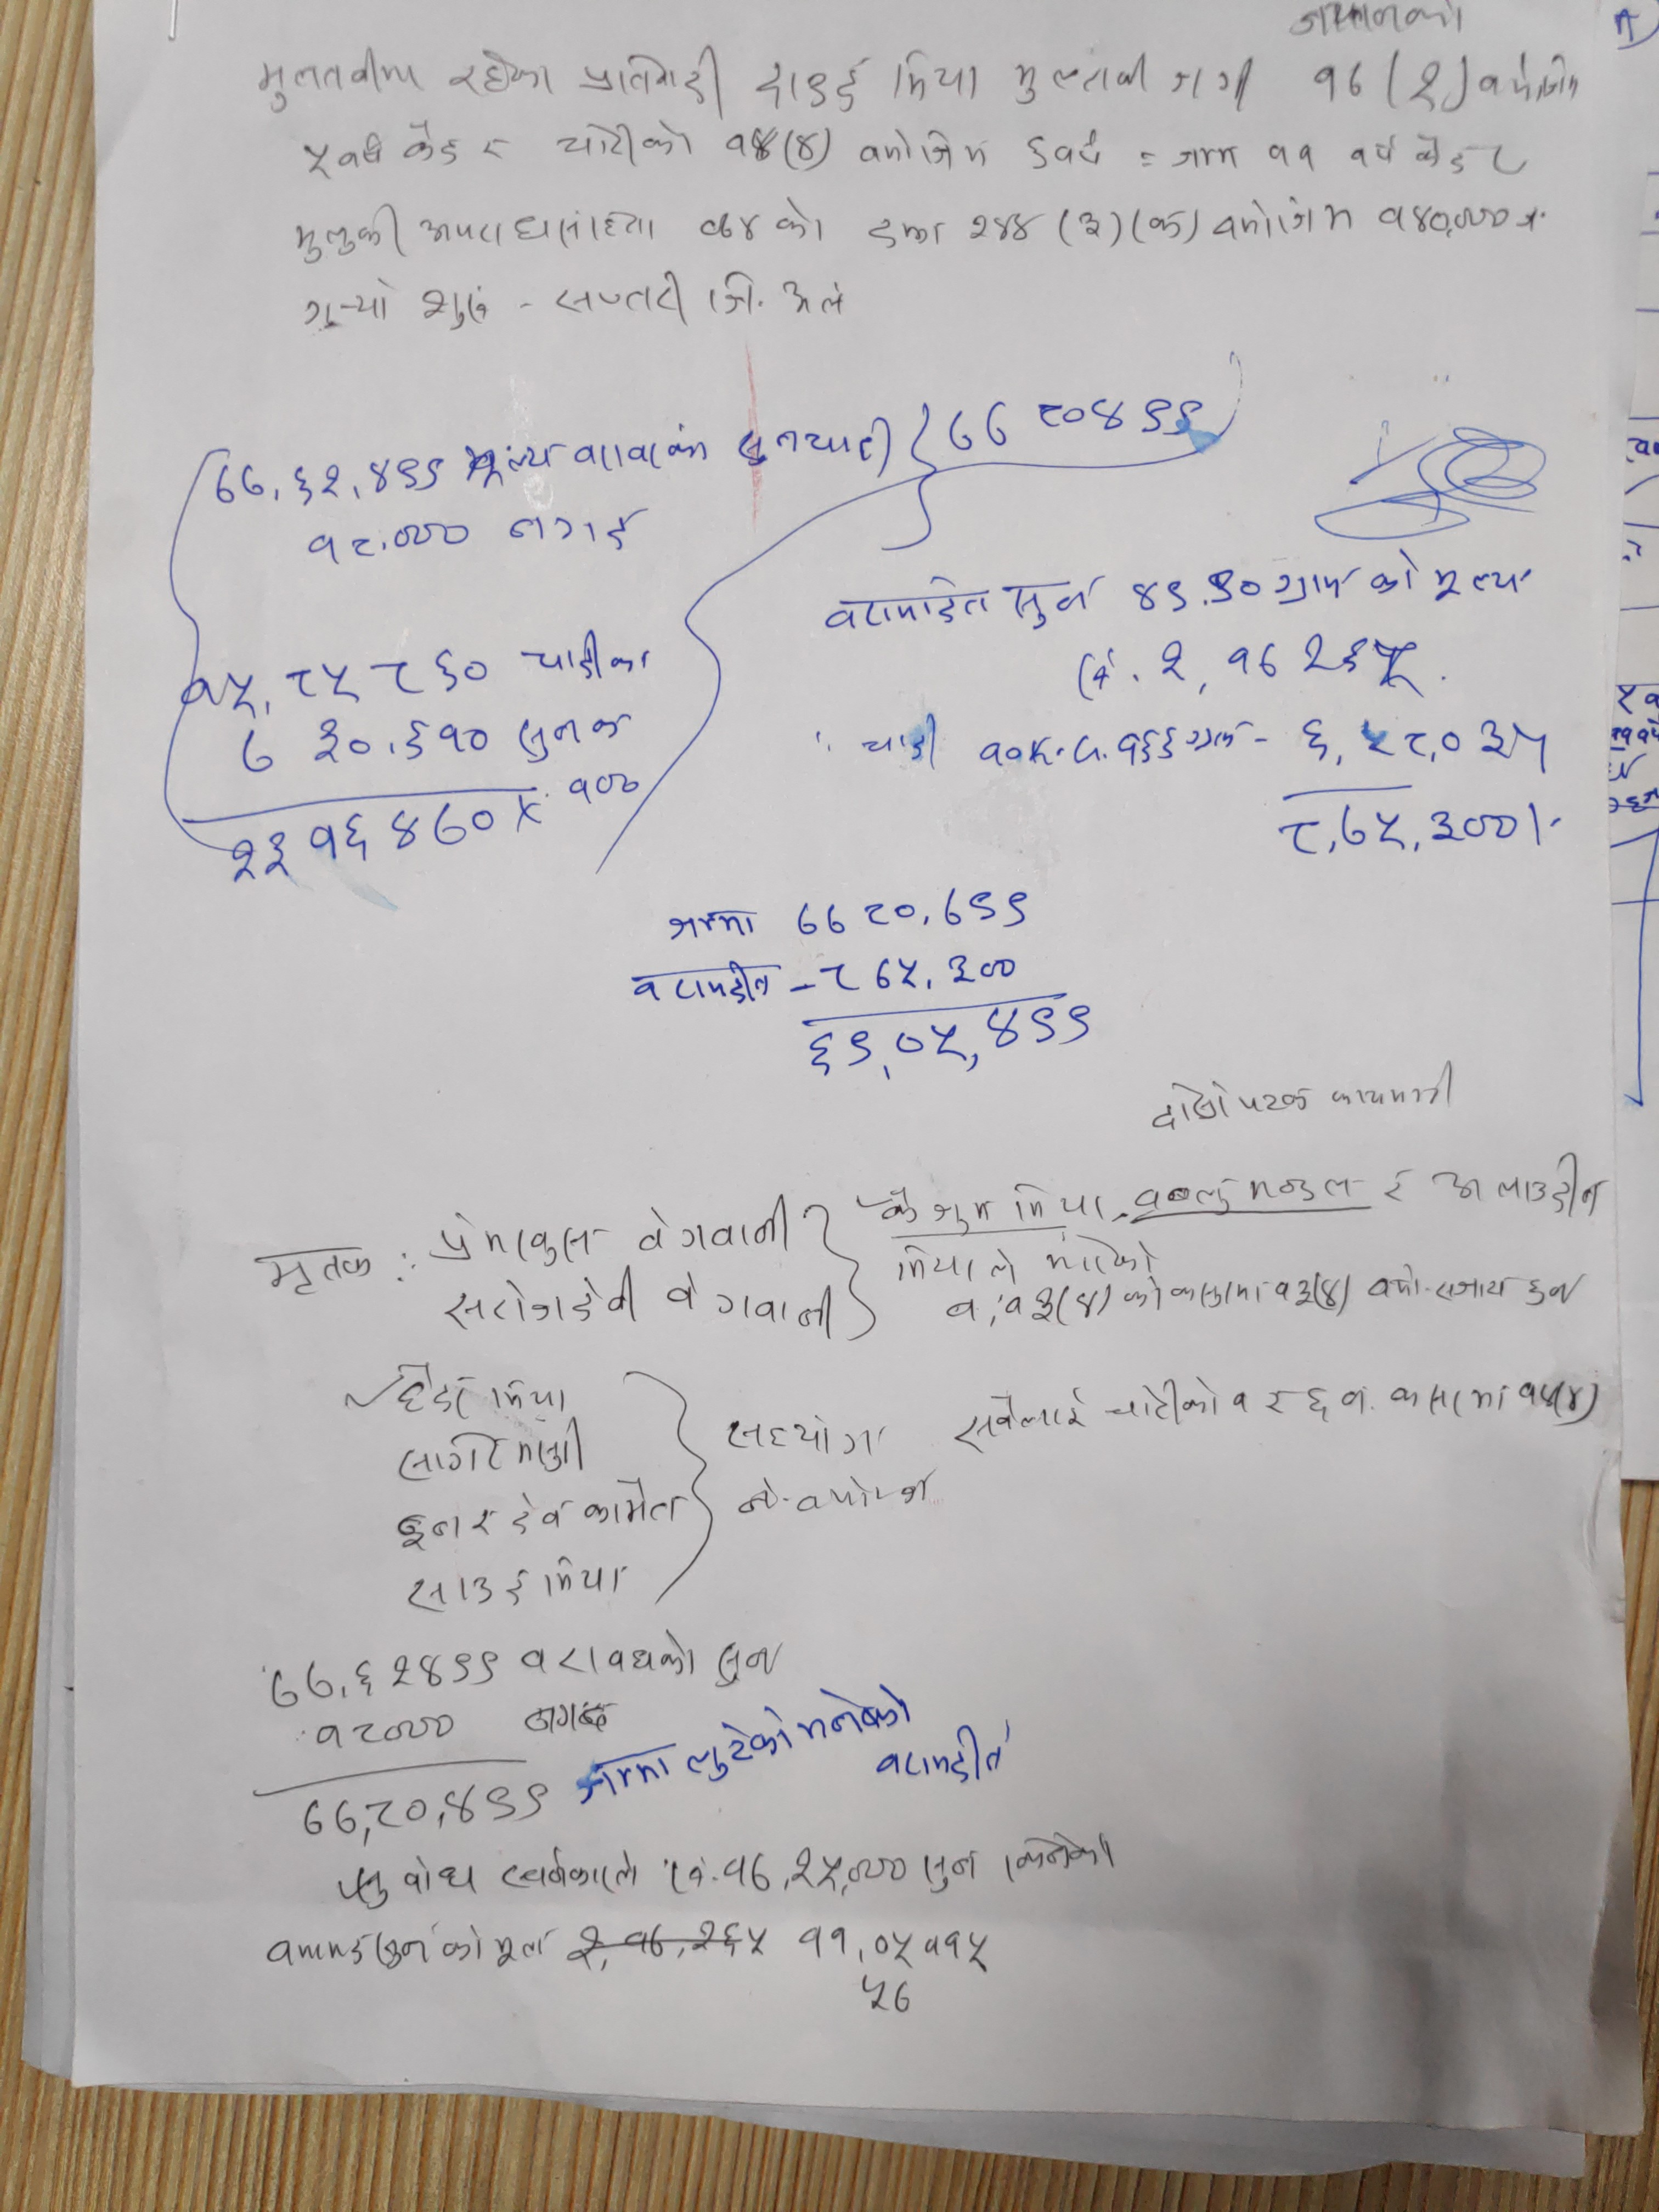text: (228, 803, 498, 885), (805, 1000, 1100, 1075), (178, 648, 493, 711), (1291, 711, 1561, 775), (235, 711, 490, 779), (941, 392, 1199, 451), (1279, 799, 1523, 859), (263, 1649, 505, 1709), (298, 1780, 545, 1836), (788, 883, 1026, 939), (1429, 1148, 1612, 1219), (662, 1264, 836, 1339), (401, 1559, 636, 1613), (579, 42, 734, 122), (251, 44, 422, 113), (437, 1270, 638, 1329), (207, 458, 448, 507), (795, 1921, 1004, 1977), (415, 206, 662, 253), (512, 1622, 704, 1679), (634, 1193, 800, 1258), (824, 573, 993, 636), (432, 1209, 601, 1270), (953, 1385, 1093, 1456), (401, 1428, 587, 1480), (735, 1468, 934, 1517), (735, 416, 894, 477), (720, 1846, 910, 1897), (873, 1724, 1011, 1791), (817, 949, 1023, 993), (1211, 188, 1359, 247), (685, 1712, 795, 1785), (1009, 51, 1152, 105), (310, 1709, 467, 1757), (718, 1413, 885, 1458), (626, 960, 775, 1010), (1117, 711, 1244, 770), (704, 266, 847, 319), (288, 202, 410, 263), (551, 272, 687, 326), (870, 1179, 995, 1237), (303, 521, 469, 564), (697, 193, 830, 247), (498, 1846, 645, 1895), (549, 117, 701, 164), (756, 52, 868, 115), (516, 631, 653, 681), (795, 1684, 915, 1742), (1328, 1057, 1457, 1109), (507, 503, 641, 552), (1127, 566, 1262, 615), (390, 1494, 495, 1555), (514, 709, 627, 765), (856, 127, 990, 174), (253, 1244, 369, 1298), (1000, 1834, 1121, 1886), (1373, 193, 1514, 237), (889, 1242, 1019, 1289), (1004, 573, 1108, 631), (577, 1747, 673, 1810), (573, 434, 709, 477), (889, 45, 985, 106), (1425, 556, 1534, 610), (1105, 1379, 1223, 1428), (450, 47, 558, 99), (1164, 54, 1256, 115), (976, 730, 1105, 773), (295, 129, 392, 186), (1473, 49, 1579, 101), (1392, 1376, 1504, 1425), (582, 1477, 681, 1531), (1412, 131, 1520, 179), (298, 280, 401, 331), (1044, 1233, 1162, 1277), (460, 435, 558, 488), (390, 1362, 476, 1420), (1148, 1080, 1234, 1137), (1006, 1177, 1108, 1223), (1021, 125, 1107, 178), (863, 209, 948, 256), (666, 906, 760, 948), (1269, 561, 1356, 604), (483, 1374, 573, 1416), (399, 1853, 483, 1897), (418, 282, 490, 331), (709, 1641, 775, 1689), (509, 1491, 577, 1538), (917, 1848, 981, 1897), (964, 209, 1039, 251), (1368, 545, 1424, 601), (559, 770, 643, 806), (403, 120, 460, 172), (1434, 1270, 1511, 1305), (1236, 1082, 1314, 1115), (1310, 57, 1370, 101), (720, 125, 775, 171), (1523, 1271, 1586, 1308), (1368, 1264, 1427, 1301), (1265, 134, 1321, 171), (1169, 141, 1237, 171), (1412, 59, 1446, 115), (1143, 207, 1188, 242), (1345, 134, 1391, 169), (1068, 204, 1107, 242), (1304, 1383, 1340, 1423), (469, 132, 511, 162), (1229, 1385, 1251, 1413)
